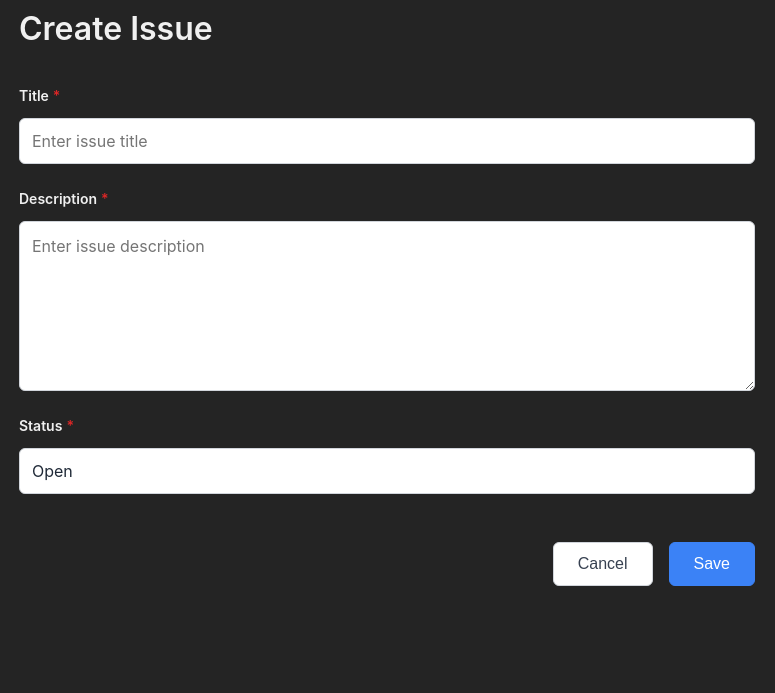
Test: CreateIssuePage › loading state › disables Save and Cancel buttons during submission
Type "Test Issue" into the field labelled "Title*" at (387, 141), box [19,118,755,164]
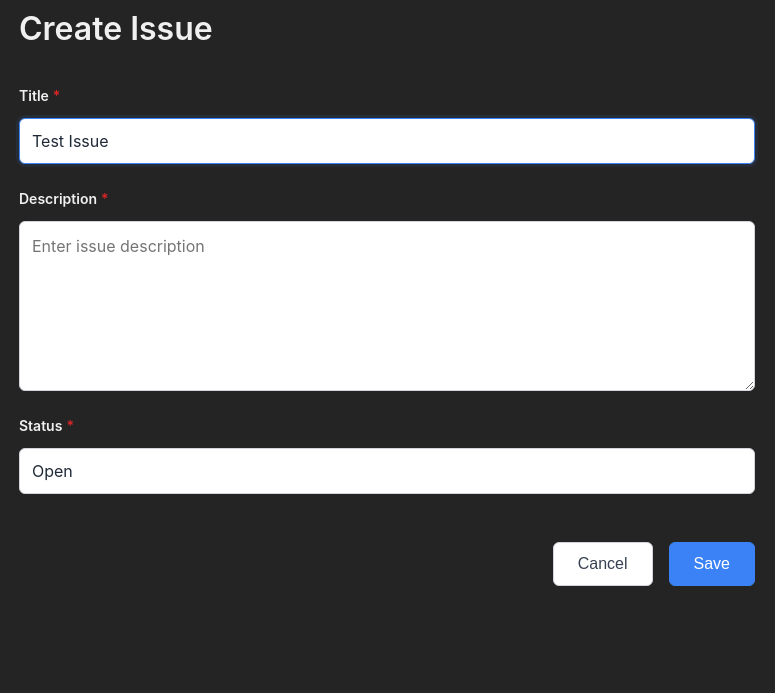
Type "Test Description" into the text box labelled "Description*" at (387, 306), box [19,221,755,391]
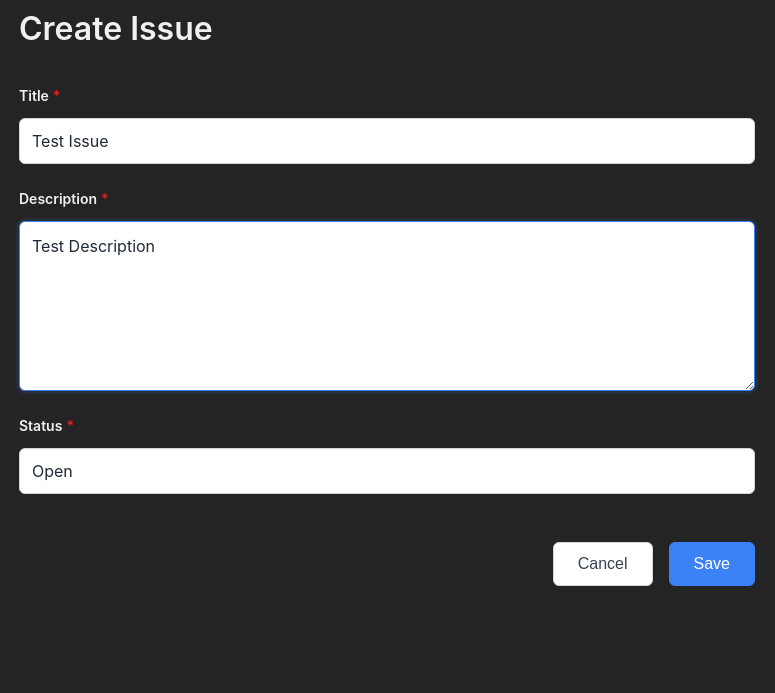
Click the button "Save" at (712, 564), box [668,542,755,586]
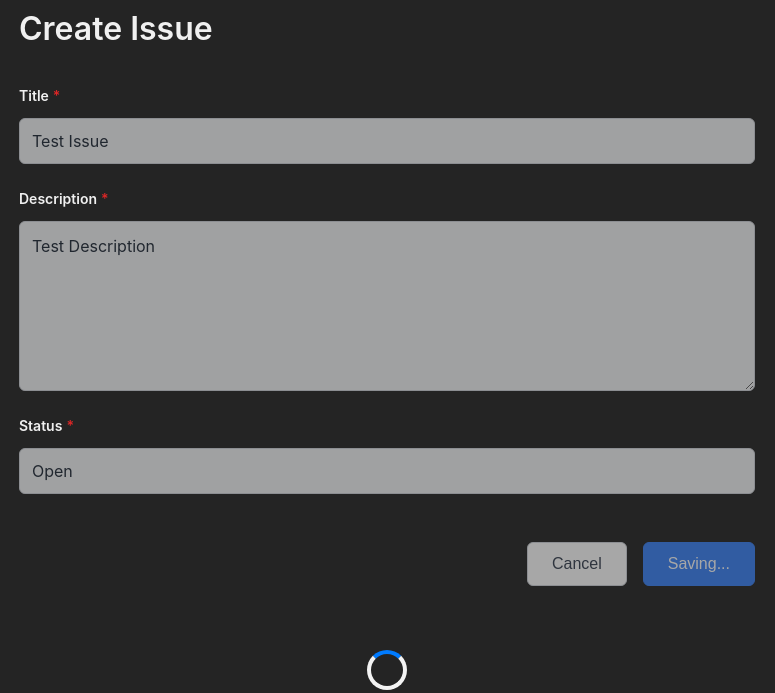
Expected: the button named "Save" is disabled, [643,542,755,586]
Expected: the button "Cancel" is disabled, [527,542,627,586]
